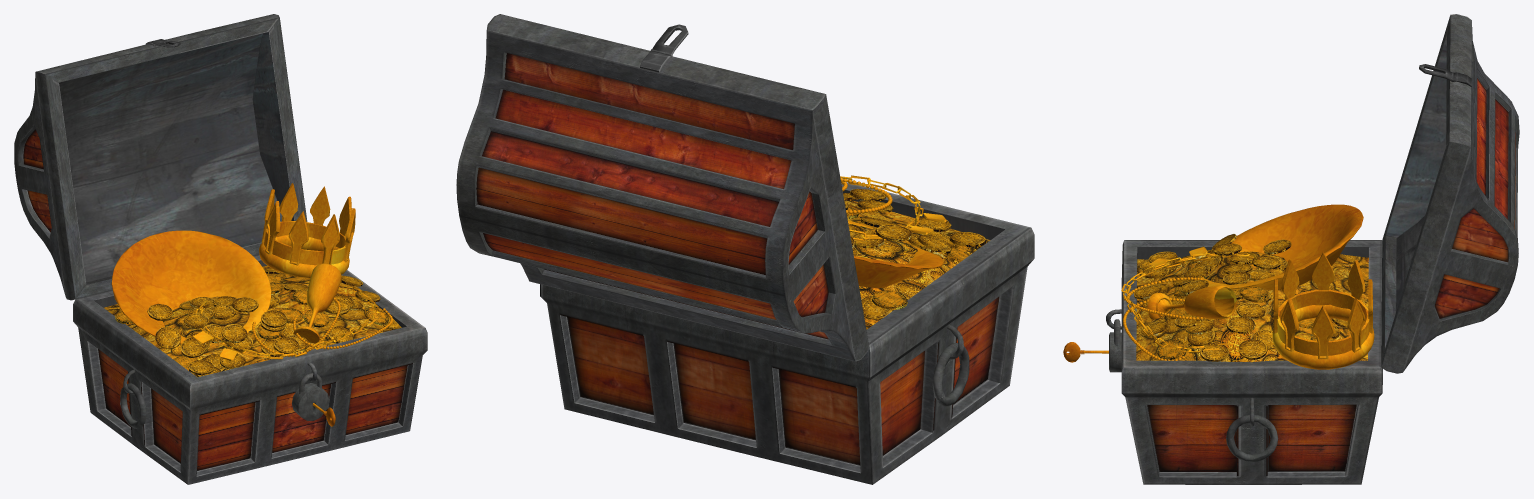
Rendered from Chest gold1.FBX.
3 views of the same model, side by side, from view 1: azimuth 30°, elevation 25°; view 2: azimuth 150°, elevation 25°; view 3: azimuth 270°, elevation 25° (orthographic). The views are drawn at different scales.
Visible parts, largest first — view 1: chest gold 1; view 2: chest gold 1; view 3: chest gold 1.
Boxes of the visible parts, box(x1,y1,x2,y2) form: chest gold 1: box(14, 14, 427, 484); chest gold 1: box(456, 14, 1034, 484); chest gold 1: box(1063, 14, 1519, 484).
Size of the model in its own units: 184 by 219 by 252.
Materials: 5 (5 with a texture image).
